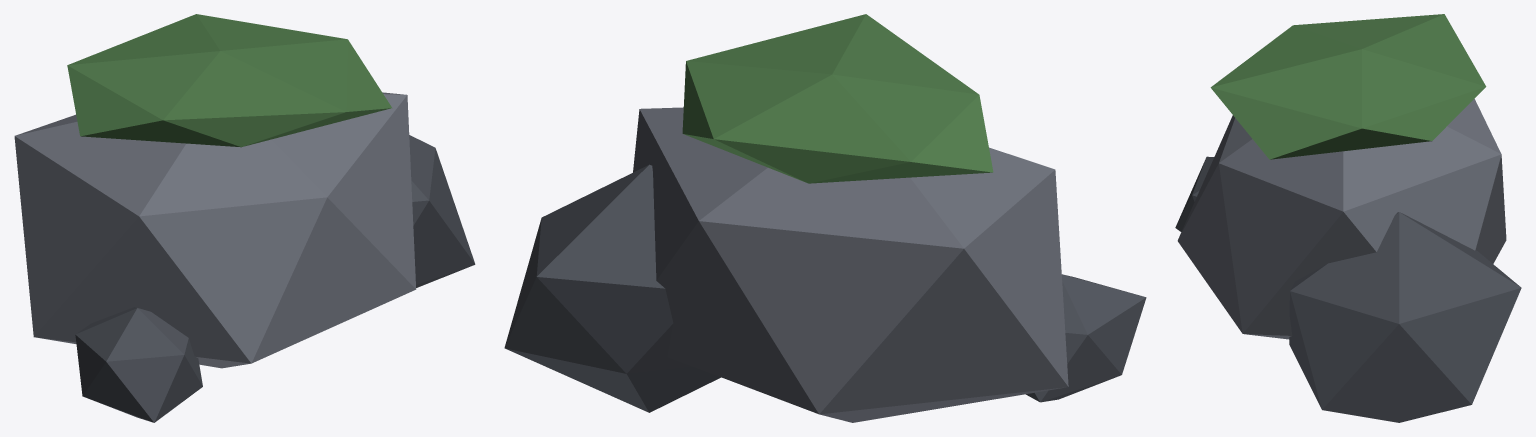
File: batu_besar.glb
The picture shows the model from 3 angles, left to right: view 1: azimuth 30°, elevation 25°; view 2: azimuth 150°, elevation 25°; view 3: azimuth 270°, elevation 25°; orthographic projection. The views are drawn at different scales.
Parts seen in each view (by area): view 1: batu_besar_mesh; view 2: batu_besar_mesh; view 3: batu_besar_mesh.
Part boxes in pixels (bbox=[...]): batu_besar_mesh: bbox=[14, 14, 475, 422]; batu_besar_mesh: bbox=[504, 14, 1146, 422]; batu_besar_mesh: bbox=[1175, 14, 1521, 422].
Size of the model in its own units: 2.61 by 1.83 by 1.87.
